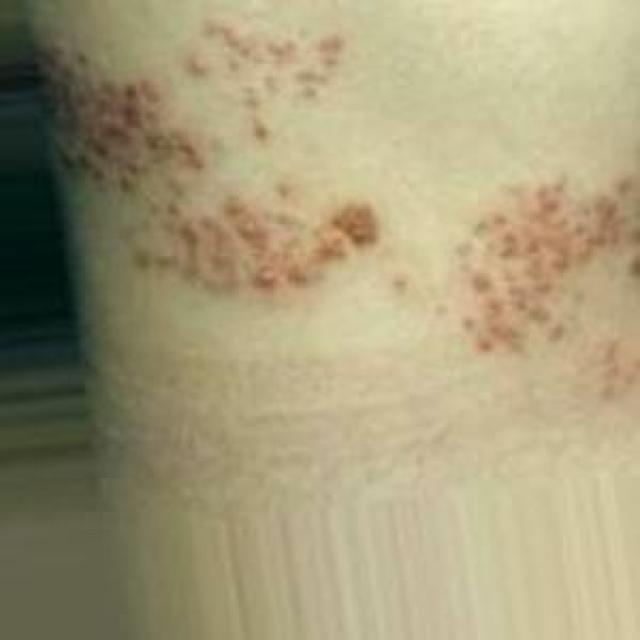Shingles: (14, 12, 382, 288), (448, 171, 640, 352)
